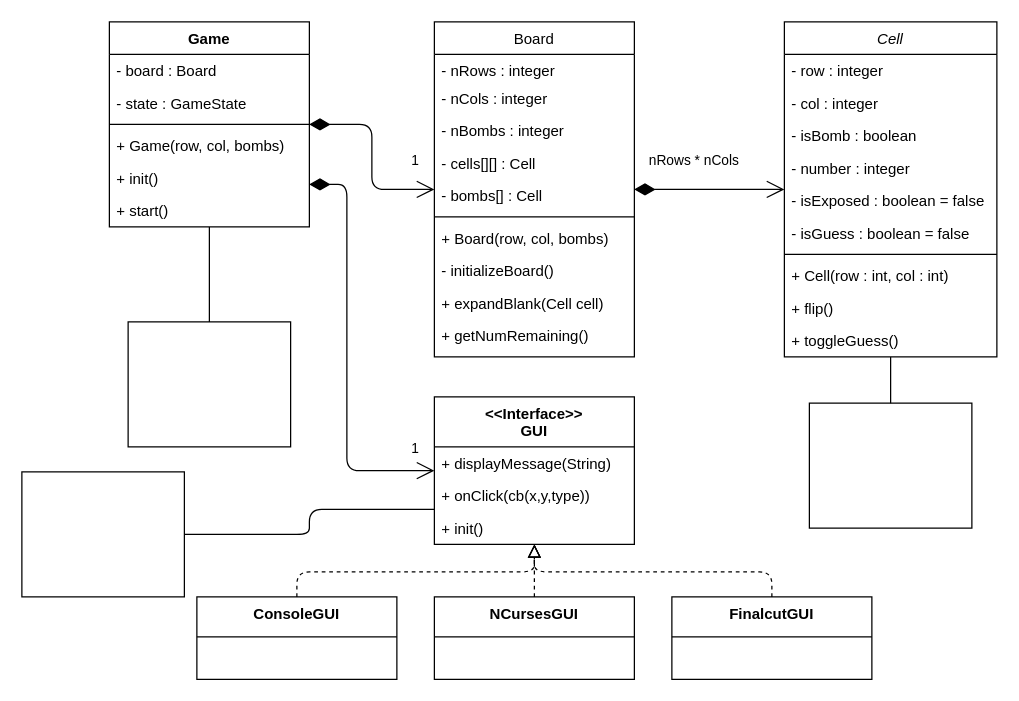
Image size: 1019x701. Some labels were removed from this diagram. The shapes that lost their labels are listed below. From the top down, each one's centre as x and y in pixels, then its label:
pixel 209 384: <<Enumeration>> GameState WON LOST RUNNING
pixel 890 465: <<Enumeration>> CellState LAND = 0 BOMB = -1 UNKNOWN -10
pixel 102 534: <<Enumeration>> EventType GUESS REVEAL QUIT
